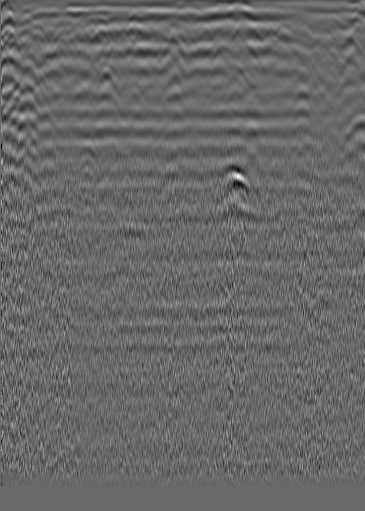가스: (213, 159, 259, 203)
상수: (335, 34, 362, 59)
오수: (0, 8, 25, 54)
우수: (159, 25, 191, 57)
